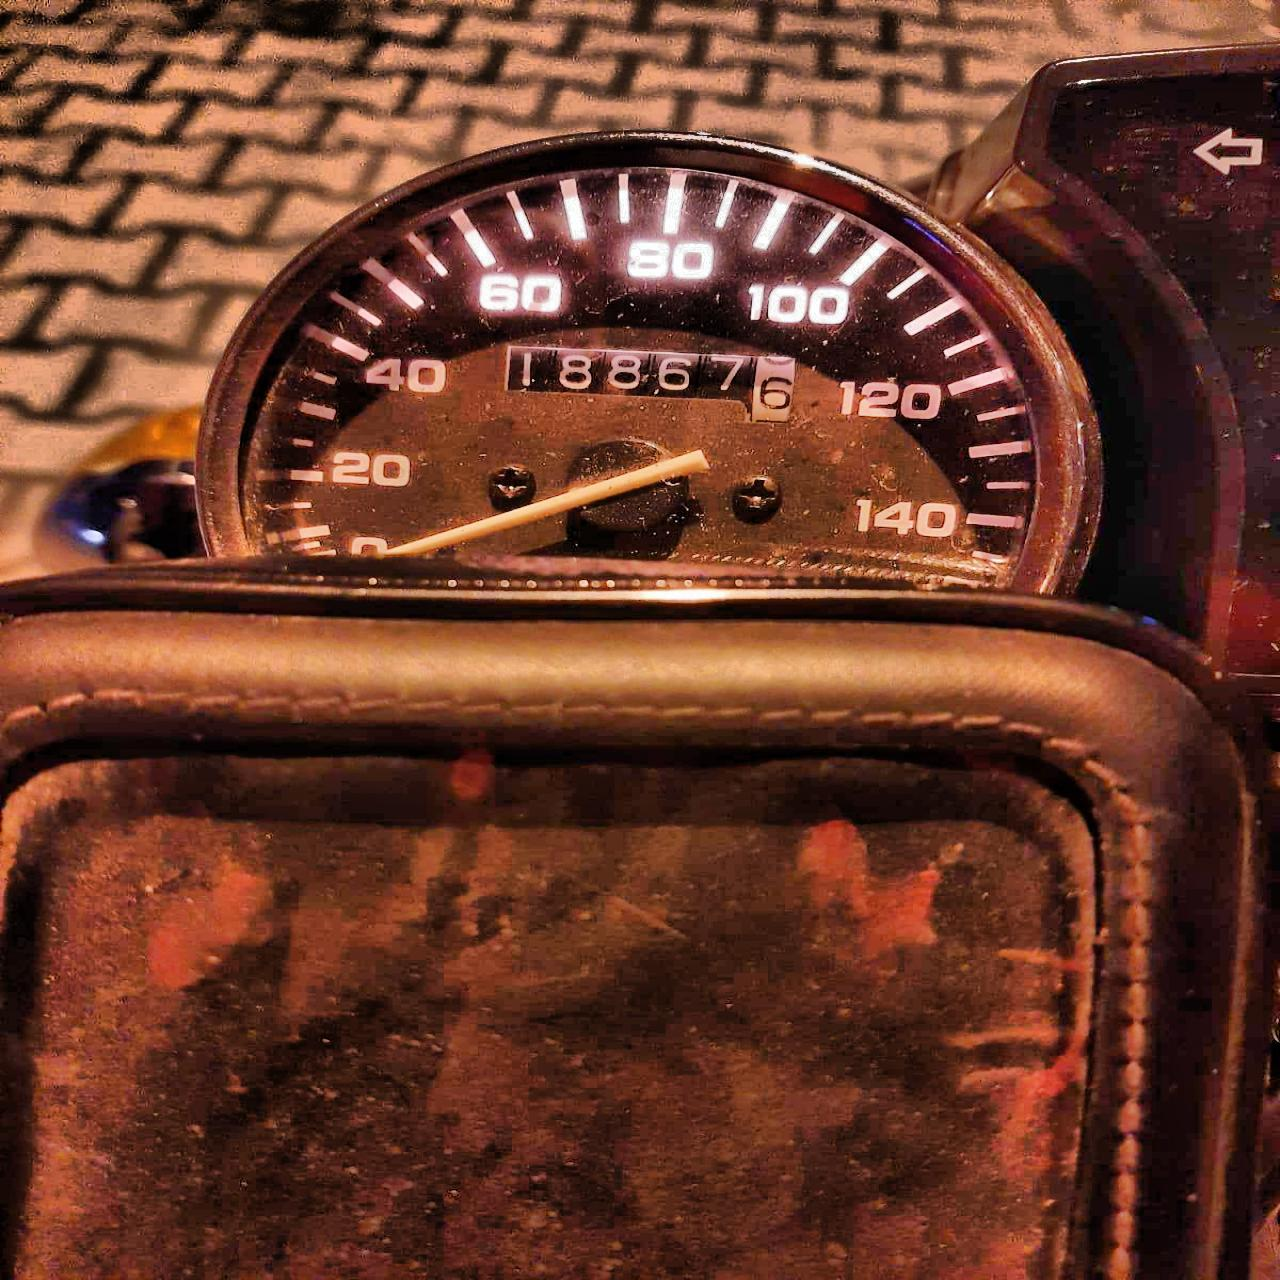1: (517, 349, 536, 389)
6: (654, 356, 692, 393), (756, 374, 795, 409)
7: (708, 354, 744, 390)
8: (554, 354, 597, 392), (610, 352, 644, 389)
odometer: (492, 336, 818, 430)
